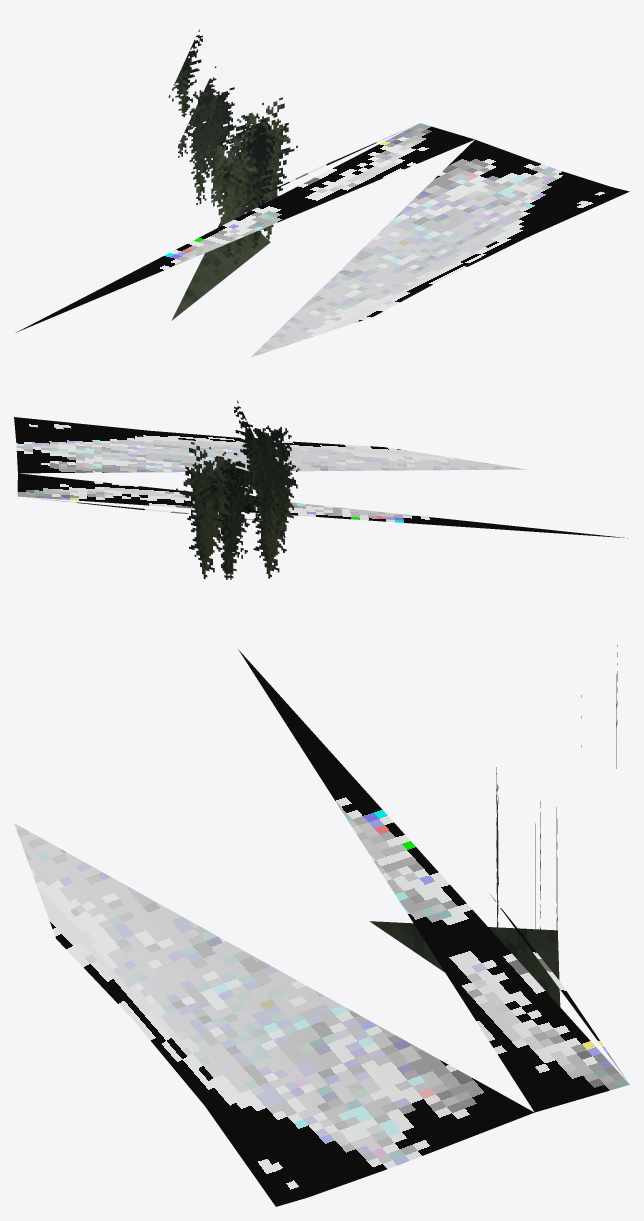
Rendered from world_camden_18_-15.gltf.
3 views of the same model, one above another, from view 1: azimuth 30°, elevation 25°; view 2: azimuth 150°, elevation 25°; view 3: azimuth 270°, elevation 25° (orthographic). The views are drawn at different scales.
Bounding box in the file's own units: 183 × 63.47 × 90.54.
Materials: 3 (3 with a texture image).
